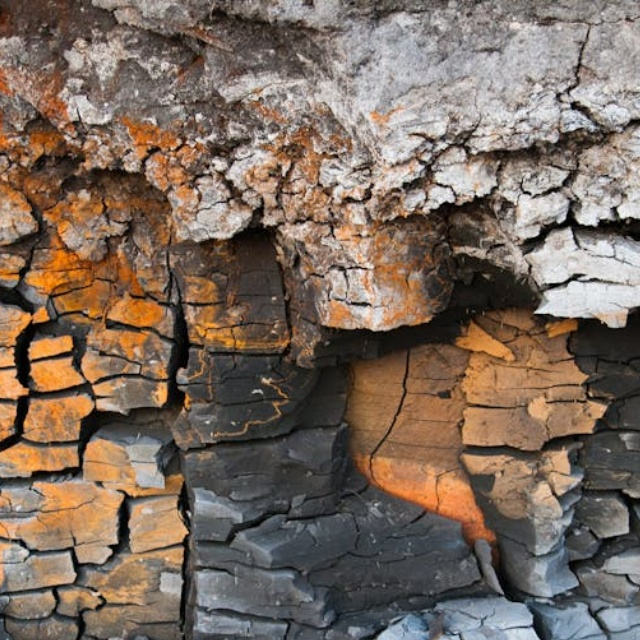网状裂隙: (0, 234, 419, 640)
